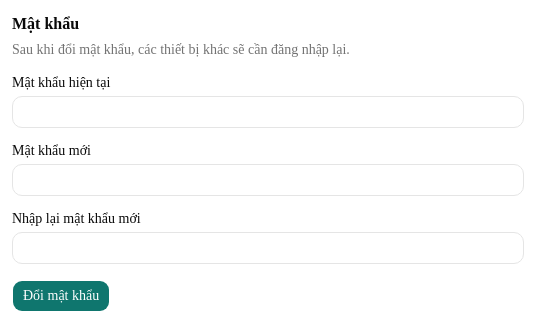
Test case: ChangePasswordFormContainer › BE báo chưa có mật khẩu (PASSWORD_NOT_SET, store cũ) -> chuyển sang khối "Đặt mật khẩu"
This screenshot has width=544, height=329.
Type "old-password-1" into the password field labelled "Mật khẩu hiện tại". click: [268, 112]
box: [12,96,524,128]
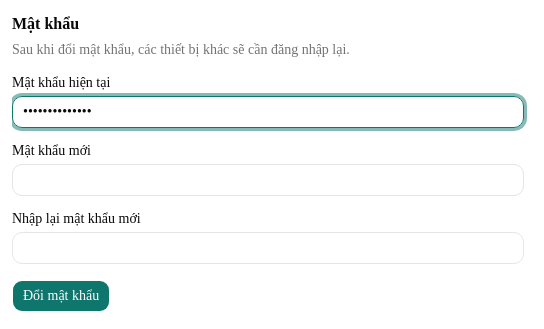
Type "new-password-2" into the password field labelled "Mật khẩu mới". click: [268, 180]
box: [12,164,524,196]
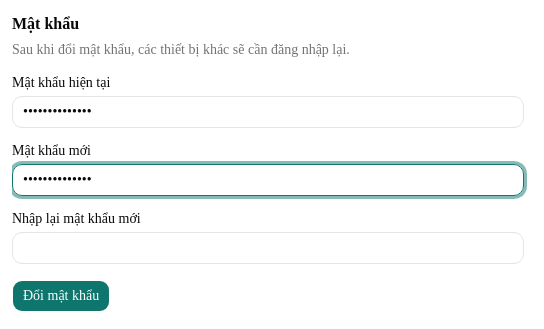
Type "new-password-2" into the password field labelled "Nhập lại mật khẩu mới". click: [268, 248]
box: [12,232,524,264]
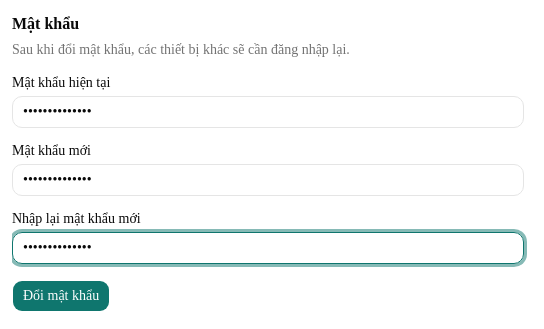
Click the button "Đổi mật khẩu". click: [61, 296]
box: [12,280,110,312]
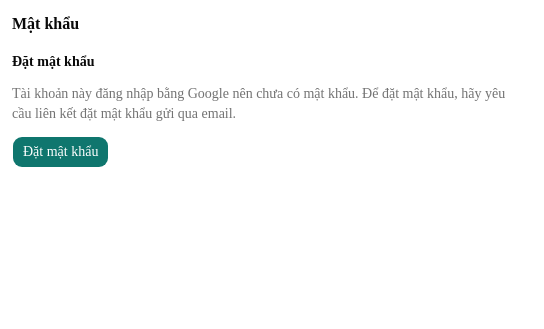
Check: the label labelled "Mật khẩu hiện tại" is gone
